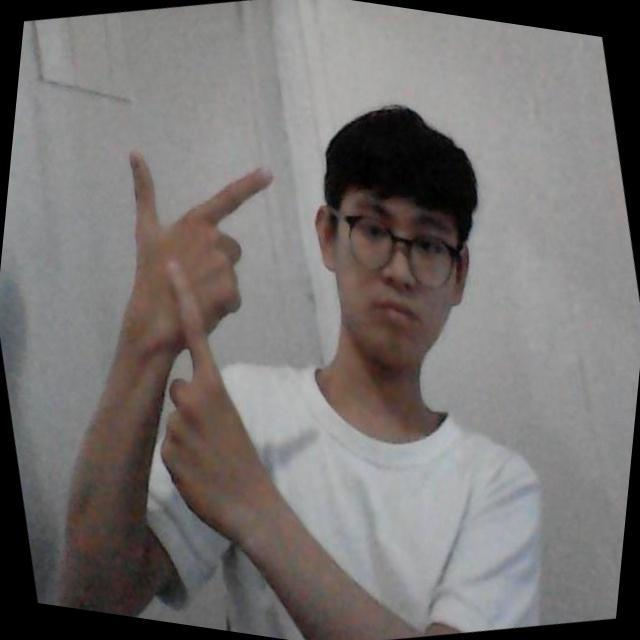Y: (100, 138, 286, 484)
